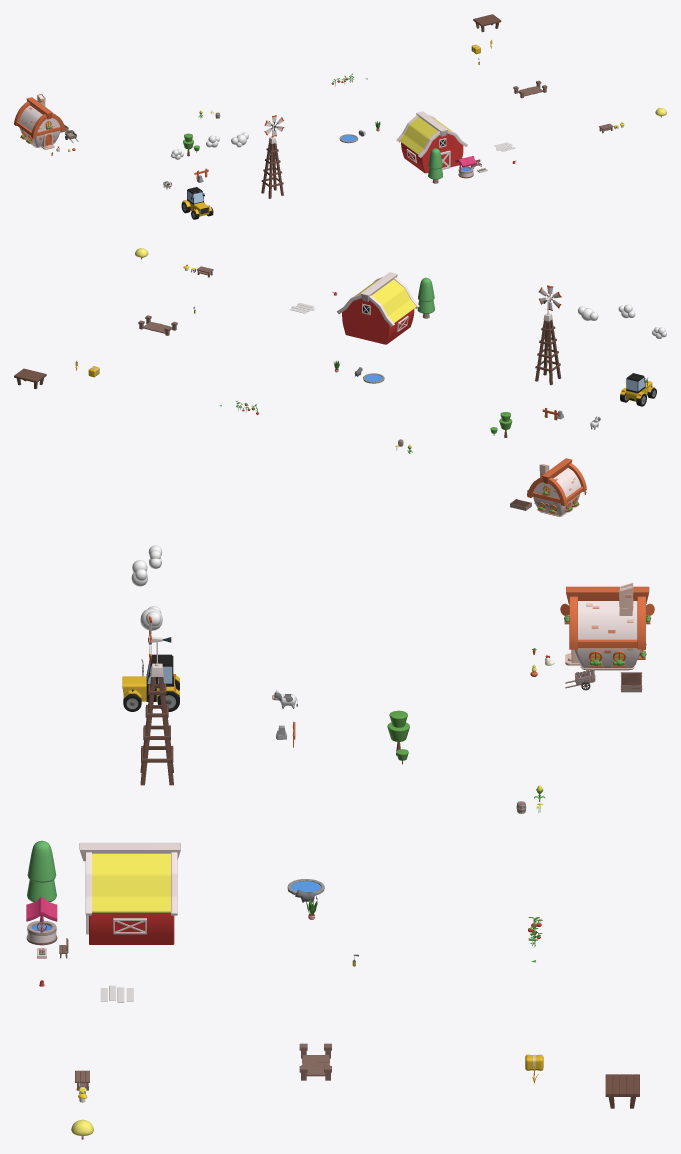
The model's file is farm-props.glb.
3 renders of one model, top to bottom at view 1: azimuth 30°, elevation 25°; view 2: azimuth 150°, elevation 25°; view 3: azimuth 270°, elevation 25°, orthographic. The views are drawn at different scales.
Visible parts, largest first — view 1: Isl_9_Barn_1, Isl_1_House_1, Isl_8_Windmill_1, Isl_8_Tractor_1, Isl_9_Tree_1, Isl_9_Well_1; view 2: Isl_9_Barn_1, Isl_1_House_1, Isl_8_Windmill_1, Isl_8_Tractor_1, Isl_9_Tree_1; view 3: Isl_9_Barn_1, Isl_1_House_1, Isl_8_Windmill_1, Isl_8_Tractor_1, Isl_9_Tree_1, Isl_9_Well_1, Isl_4_Stand_1, Isl_7_Bridge_1.
Boxes of the visible parts, x1=… form: Isl_9_Barn_1: x1=396, y1=111, x2=467, y2=173; Isl_1_House_1: x1=14, y1=93, x2=65, y2=149; Isl_8_Windmill_1: x1=261, y1=115, x2=284, y2=198; Isl_8_Tractor_1: x1=181, y1=187, x2=213, y2=219; Isl_9_Tree_1: x1=428, y1=148, x2=442, y2=183; Isl_9_Well_1: x1=455, y1=156, x2=476, y2=178; Isl_9_Barn_1: x1=336, y1=272, x2=419, y2=344; Isl_1_House_1: x1=527, y1=458, x2=586, y2=516; Isl_8_Windmill_1: x1=535, y1=285, x2=561, y2=385; Isl_8_Tractor_1: x1=620, y1=373, x2=656, y2=406; Isl_9_Tree_1: x1=417, y1=277, x2=434, y2=318; Isl_9_Barn_1: x1=79, y1=842, x2=180, y2=944; Isl_1_House_1: x1=560, y1=583, x2=654, y2=670; Isl_8_Windmill_1: x1=140, y1=616, x2=173, y2=785; Isl_8_Tractor_1: x1=122, y1=654, x2=179, y2=711; Isl_9_Tree_1: x1=27, y1=840, x2=56, y2=901; Isl_9_Well_1: x1=26, y1=897, x2=57, y2=945; Isl_4_Stand_1: x1=605, y1=1074, x2=639, y2=1108; Isl_7_Bridge_1: x1=299, y1=1043, x2=331, y2=1080.
Size of the model in its own units: 92.95 by 13.88 by 49.47.
Materials: 1 (1 with a texture image).
